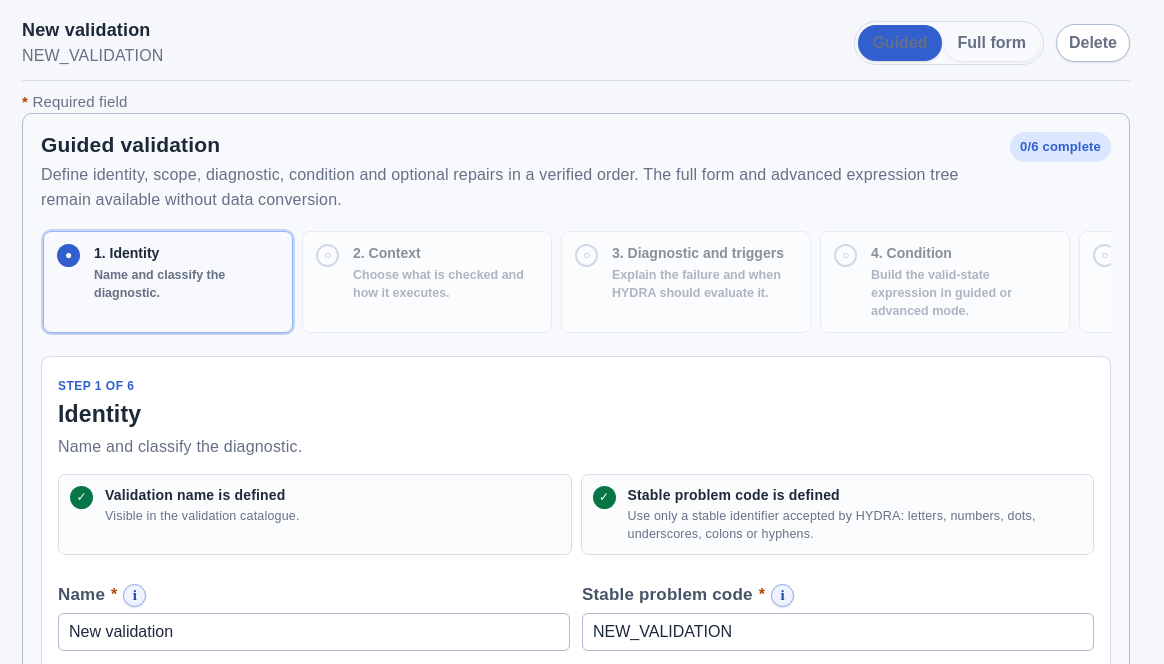
Test: validation rule form guidance › shows information buttons, required markers and the rule guide
Click the button "Full form" at (992, 43), box [944,25,1040,61]
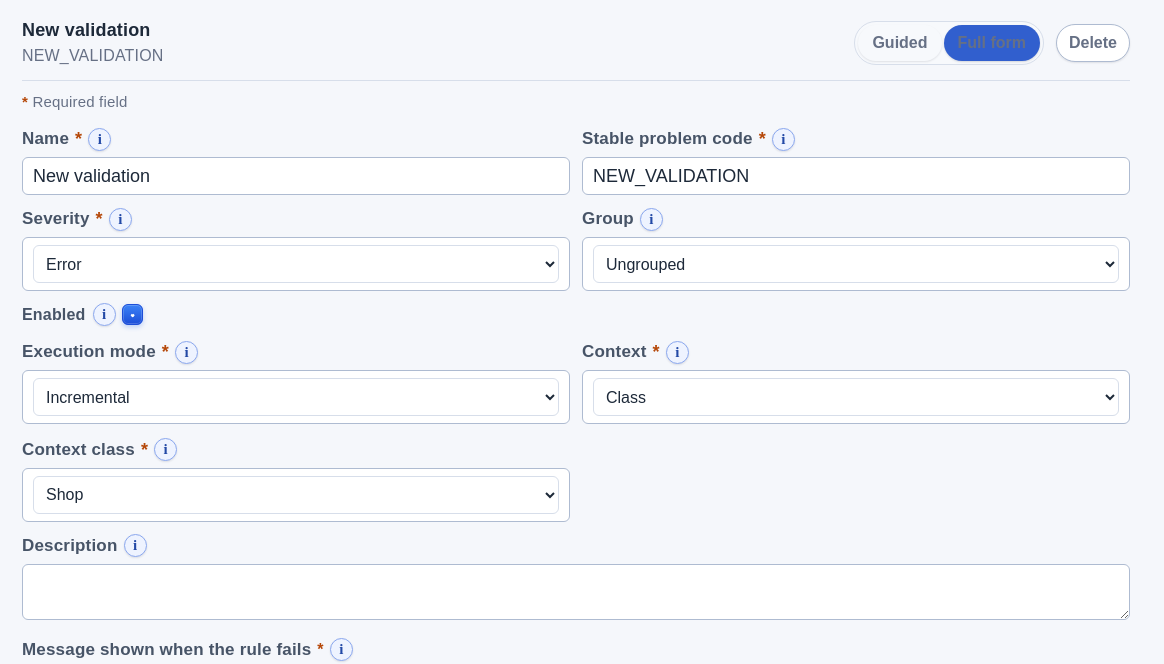
Expected: the button named "Information about Name" is shown, [88,128,111,150]
Expected: the button named "Information about Stable problem code" is shown, [772,128,795,150]
Expected: the button named "Information about Message shown when the rule fails" is shown, [330,638,353,661]
